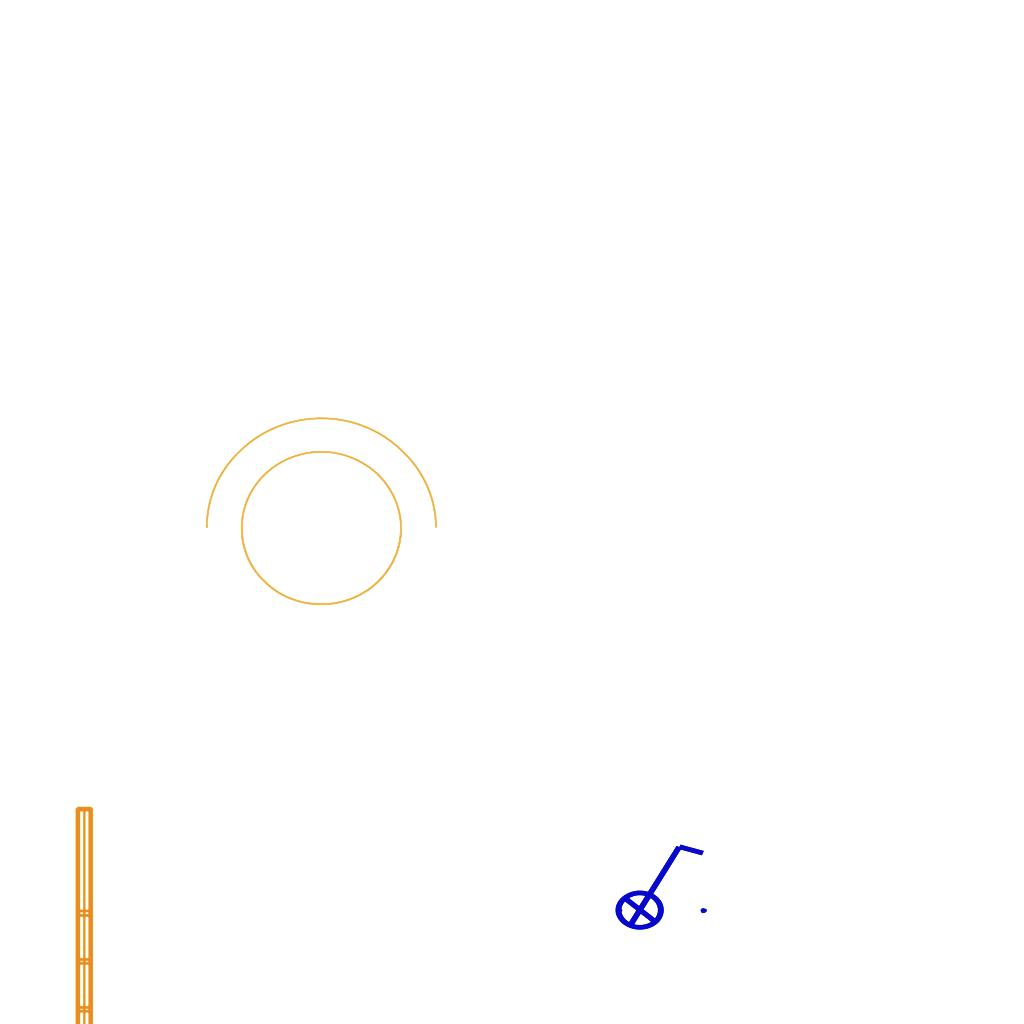Ambulanz_Pendelleuchte_LED: (69, 801, 125, 1024)
Ausschalter_beleuchtet: (601, 836, 713, 932)
Scheinwerfer_fuer_Alarmbeleuchtung: (183, 406, 447, 631)
